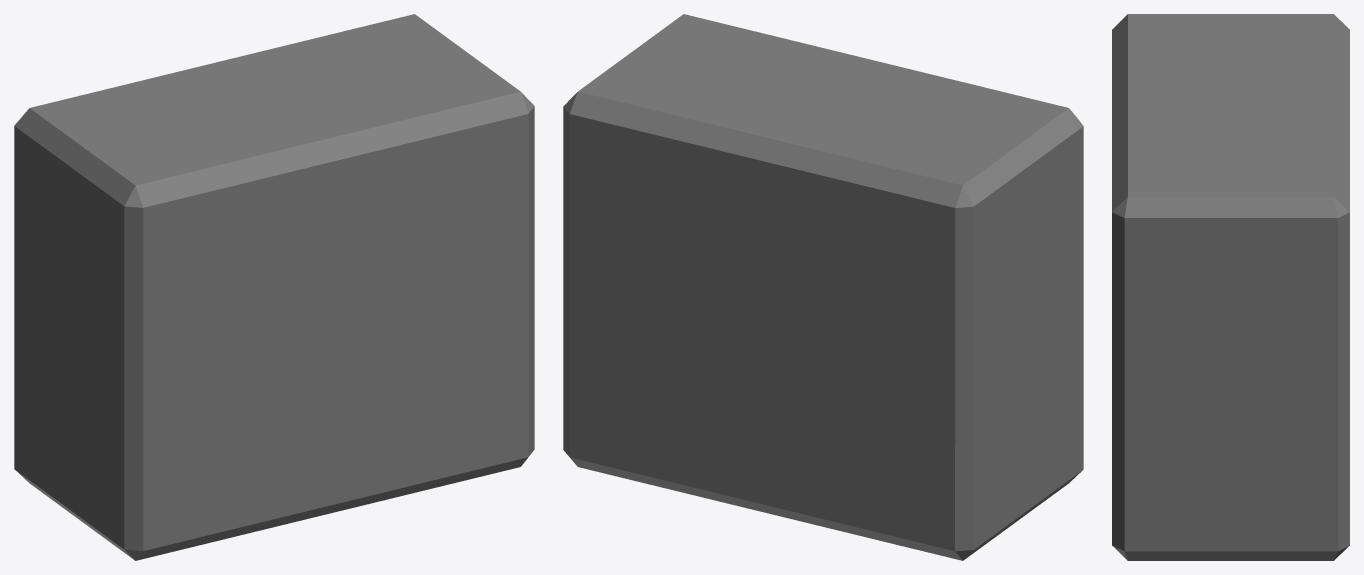
File: uptorso.obj
3 renders of one model, left to right at view 1: azimuth 30°, elevation 25°; view 2: azimuth 150°, elevation 25°; view 3: azimuth 270°, elevation 25°, orthographic. The views are drawn at different scales.
Parts seen in each view (by area): view 1: Rig1; view 2: Rig1; view 3: Rig1.
Part boxes in pixels (bbox=[...]): Rig1: bbox=[14, 14, 534, 560]; Rig1: bbox=[563, 14, 1083, 560]; Rig1: bbox=[1112, 14, 1349, 560].
Size of the model in its own units: 1.94 by 1.7 by 1.
1 material, 1 textured.
